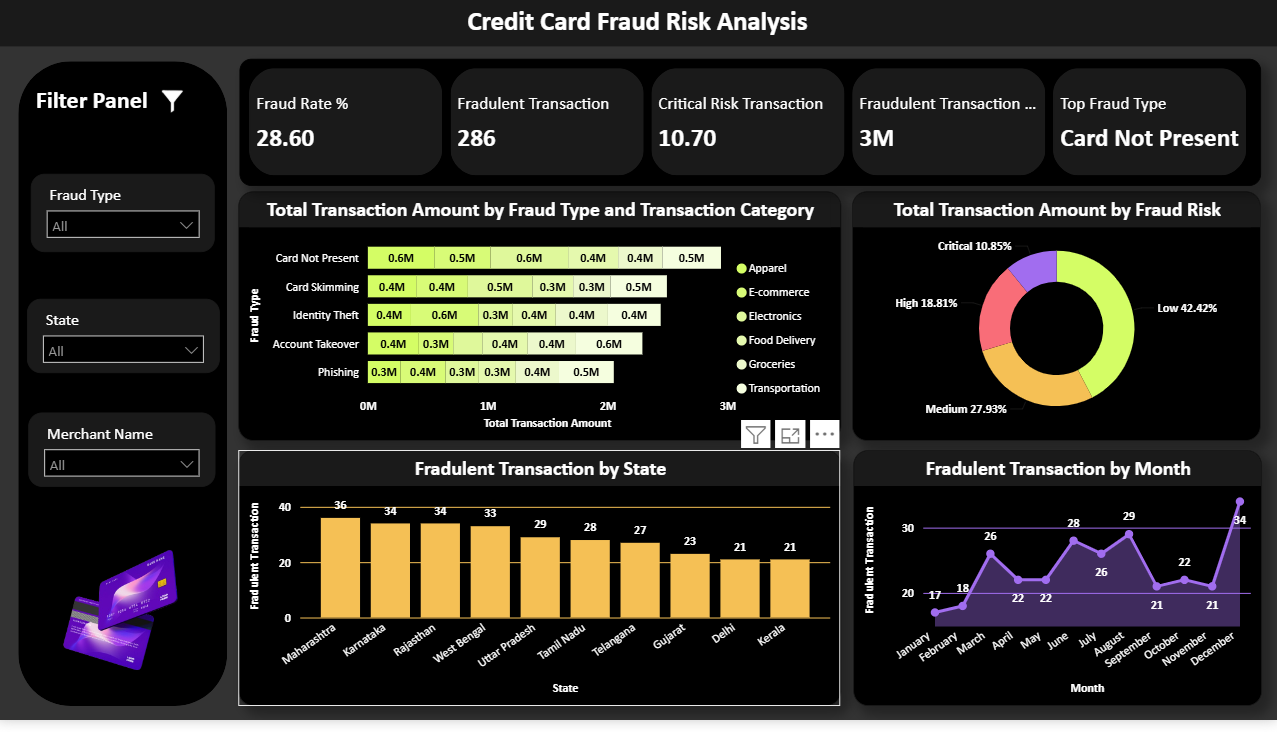

Layout of this report page (visuals, bound fields, positions):
{"tool":"powerbi","page":{"name":"Page 1","canvas":[1280,720],"ordinal":0},"visuals":[{"type":"textbox","box":[0,0,1280.6,46.3],"z":0},{"type":"shape","box":[20.9,61.2,209,644.8],"z":1000},{"type":"textbox","box":[34.3,80.6,141.8,46.3],"z":2000},{"type":"image","box":[144.8,80.6,61.2,43.3],"z":3000},{"type":"barChart","fields":{"Y":["Credit Card Fraud Risk Analysis.Total Transaction Amount"],"Category":["Credit Card Fraud Risk Analysis.Fraud Type"],"Series":["Credit Card Fraud Risk Analysis.Transaction Category"]},"box":[241.8,191,603,249.3],"z":4000},{"type":"donutChart","fields":{"Y":["Credit Card Fraud Risk Analysis.Total Transaction Amount"],"Category":["Credit Card Fraud Risk Analysis.Fraud Risk"]},"box":[855.2,191,409,249.3],"z":5000},{"type":"columnChart","fields":{"Category":["Credit Card Fraud Risk Analysis.State"],"Y":["Credit Card Fraud Risk Analysis.Fradulent Transaction"]},"box":[241.4,450,602.9,255.7],"z":6000},{"type":"lineChart","fields":{"Y":["Credit Card Fraud Risk Analysis.Fradulent Transaction"],"Category":["Credit Card Fraud Risk Analysis.Transaction Date.Variation.Date Hierarchy.Month"]},"box":[855.7,450,408.6,255.7],"z":7000},{"type":"slicer","fields":{"Values":["Credit Card Fraud Risk Analysis.Fraud Type"]},"box":[34.3,174.3,184.3,78.6],"z":8000},{"type":"slicer","fields":{"Values":["Credit Card Fraud Risk Analysis.State"]},"box":[30,298.6,192.9,74.3],"z":9000},{"type":"slicer","fields":{"Values":["Credit Card Fraud Risk Analysis.Merchant Name"]},"box":[31.4,412.9,187.1,74.3],"z":10000},{"type":"image","box":[0,530,191.4,162.9],"z":11000},{"type":"cardVisual","fields":{"Data":["Credit Card Fraud Risk Analysis.Fraud Rate %","Credit Card Fraud Risk Analysis.Fradulent Transaction","Credit Card Fraud Risk Analysis.Critical Risk Transaction","Credit Card Fraud Risk Analysis.Fraudulent Transaction Amount","Credit Card Fraud Risk Analysis.Top Fraud Type"]},"box":[242.9,58.6,1021.4,127.1],"z":12000}]}

Visuals, with their boxes in screenshot pixels (x1, y1, x2, y2), scaled from the page's 1280x720 canvas onto the 1277x732 screenshot:
textbox: bbox=[0, 0, 1276, 47]
shape: bbox=[21, 62, 229, 718]
textbox: bbox=[34, 82, 176, 129]
image: bbox=[144, 82, 206, 126]
barChart - Credit Card Fraud Risk Analysis.Total Transaction Amount x Credit Card Fraud Risk Analysis.Fraud Type: bbox=[241, 194, 843, 448]
donutChart - Credit Card Fraud Risk Analysis.Total Transaction Amount x Credit Card Fraud Risk Analysis.Fraud Risk: bbox=[853, 194, 1261, 448]
columnChart - Credit Card Fraud Risk Analysis.State x Credit Card Fraud Risk Analysis.Fradulent Transaction: bbox=[241, 458, 842, 717]
lineChart - Credit Card Fraud Risk Analysis.Fradulent Transaction x Credit Card Fraud Risk Analysis.Transaction Date.Variation.Date Hierarchy.Month: bbox=[854, 458, 1261, 717]
slicer - Credit Card Fraud Risk Analysis.Fraud Type: bbox=[34, 177, 218, 257]
slicer - Credit Card Fraud Risk Analysis.State: bbox=[30, 304, 222, 379]
slicer - Credit Card Fraud Risk Analysis.Merchant Name: bbox=[31, 420, 218, 495]
image: bbox=[0, 539, 191, 704]
cardVisual - Credit Card Fraud Risk Analysis.Fraud Rate % x Credit Card Fraud Risk Analysis.Fradulent Transaction: bbox=[242, 60, 1261, 189]
